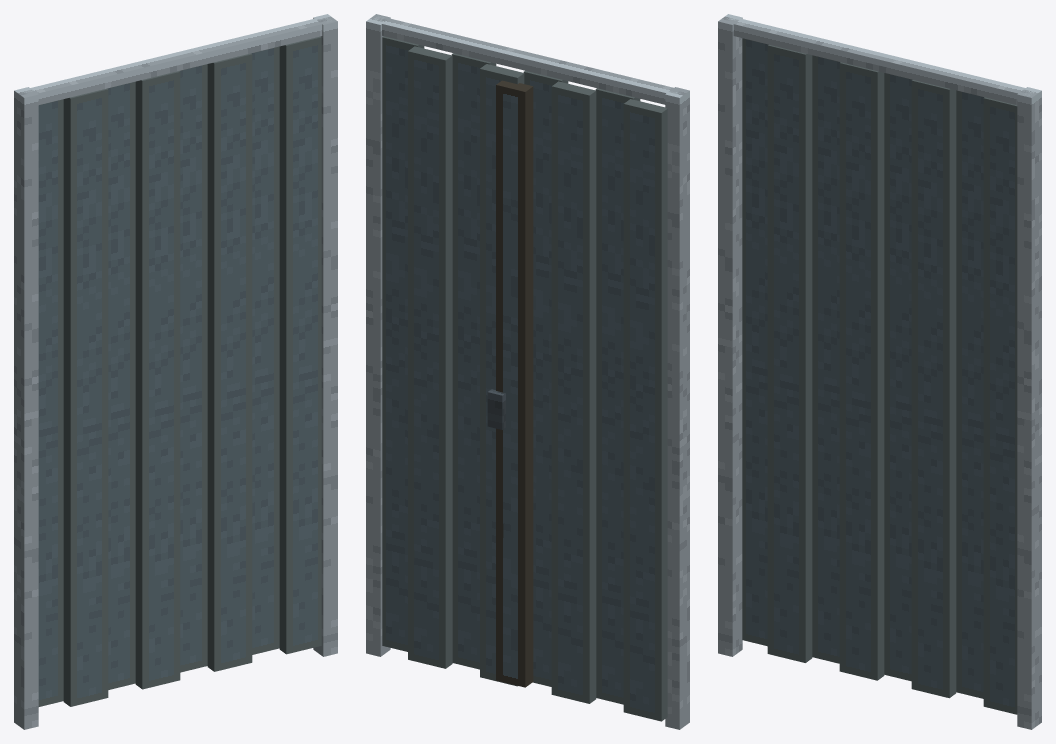
Rendered from f_large_canvas_door.glb.
3 renders of one model, left to right at view 1: azimuth 30°, elevation 25°; view 2: azimuth 150°, elevation 25°; view 3: azimuth 330°, elevation 25°, orthographic.
Parts seen in each view (by area): view 1: block_fabric-fold-1, block_fabric-fold-5, block_fabric-fold-3, block_fabric-fold-7, block_fabric-fold-2, block_fabric-fold-4, block_fabric-fold-6, block_support--0.473, block_fabric-fold-0, block_support-0.473, block_top-rail; view 2: block_fabric-fold-2, block_fabric-fold-6, block_fabric-fold-0, block_flap-overlap, block_fabric-fold-1, block_fabric-fold-5, block_fabric-fold-7, block_support--0.473, block_fabric-fold-3, block_support-0.473, block_fabric-fold-4, block_top-rail (+1 smaller); view 3: block_fabric-fold-3, block_fabric-fold-5, block_fabric-fold-1, block_fabric-fold-7, block_fabric-fold-4, block_fabric-fold-6, block_fabric-fold-2, block_support-0.473, block_support--0.473, block_fabric-fold-0, block_top-rail.
Boxes of the visible parts, x1=… form: block_fabric-fold-1: x1=63, y1=88, x2=108, y2=706; block_fabric-fold-5: x1=207, y1=53, x2=252, y2=671; block_fabric-fold-3: x1=135, y1=71, x2=180, y2=689; block_fabric-fold-7: x1=279, y1=36, x2=321, y2=654; block_fabric-fold-2: x1=107, y1=81, x2=135, y2=689; block_fabric-fold-4: x1=179, y1=64, x2=207, y2=672; block_fabric-fold-6: x1=251, y1=46, x2=279, y2=654; block_support--0.473: x1=14, y1=87, x2=38, y2=729; block_fabric-fold-0: x1=38, y1=99, x2=63, y2=706; block_support-0.473: x1=313, y1=14, x2=337, y2=656; block_top-rail: x1=20, y1=17, x2=331, y2=104; block_fabric-fold-2: x1=551, y1=81, x2=596, y2=703; block_fabric-fold-6: x1=408, y1=46, x2=452, y2=668; block_fabric-fold-0: x1=623, y1=99, x2=667, y2=721; block_flap-overlap: x1=496, y1=80, x2=533, y2=687; block_fabric-fold-1: x1=595, y1=88, x2=640, y2=704; block_fabric-fold-5: x1=451, y1=53, x2=496, y2=669; block_fabric-fold-7: x1=382, y1=36, x2=424, y2=651; block_support--0.473: x1=665, y1=87, x2=689, y2=729; block_fabric-fold-3: x1=523, y1=70, x2=568, y2=686; block_support-0.473: x1=366, y1=14, x2=390, y2=656; block_fabric-fold-4: x1=480, y1=64, x2=524, y2=686; block_top-rail: x1=372, y1=15, x2=683, y2=104; block_fabric-fold-3: x1=839, y1=62, x2=884, y2=680; block_fabric-fold-5: x1=911, y1=80, x2=956, y2=698; block_fabric-fold-1: x1=767, y1=44, x2=812, y2=662; block_fabric-fold-7: x1=983, y1=97, x2=1017, y2=714; block_fabric-fold-4: x1=884, y1=73, x2=912, y2=681; block_fabric-fold-6: x1=956, y1=90, x2=984, y2=698; block_fabric-fold-2: x1=812, y1=55, x2=840, y2=663; block_support-0.473: x1=1017, y1=87, x2=1041, y2=729; block_support--0.473: x1=718, y1=14, x2=742, y2=656; block_fabric-fold-0: x1=742, y1=38, x2=768, y2=646; block_top-rail: x1=724, y1=16, x2=1035, y2=104.
Size of the model in its own units: 0.992 by 1.91 by 0.141.
1 material, 1 textured.
